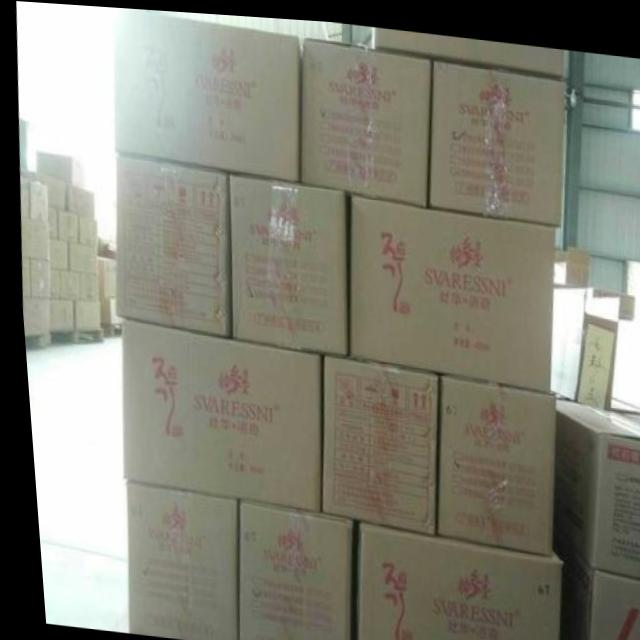box: (344, 191, 553, 383), (117, 315, 318, 509), (113, 10, 300, 176), (346, 516, 555, 640), (424, 53, 566, 219), (298, 35, 431, 200), (428, 369, 550, 548), (315, 350, 435, 528), (111, 151, 227, 335), (227, 169, 343, 350), (120, 477, 230, 640), (229, 496, 349, 640), (549, 391, 640, 573), (546, 277, 640, 405), (546, 516, 640, 640), (349, 20, 563, 70), (35, 151, 82, 187), (552, 239, 587, 282), (18, 217, 45, 259), (19, 296, 46, 337), (93, 239, 112, 295), (36, 173, 64, 209), (65, 239, 93, 275), (27, 254, 47, 300), (65, 184, 92, 218), (70, 299, 97, 329), (46, 300, 71, 332), (27, 183, 46, 220), (94, 294, 117, 324), (55, 208, 75, 241), (44, 237, 66, 266), (18, 119, 30, 171), (57, 266, 76, 298), (76, 215, 94, 244), (75, 272, 94, 298), (18, 256, 27, 297), (45, 206, 56, 236), (46, 268, 57, 298), (18, 180, 26, 220), (18, 168, 36, 183)
